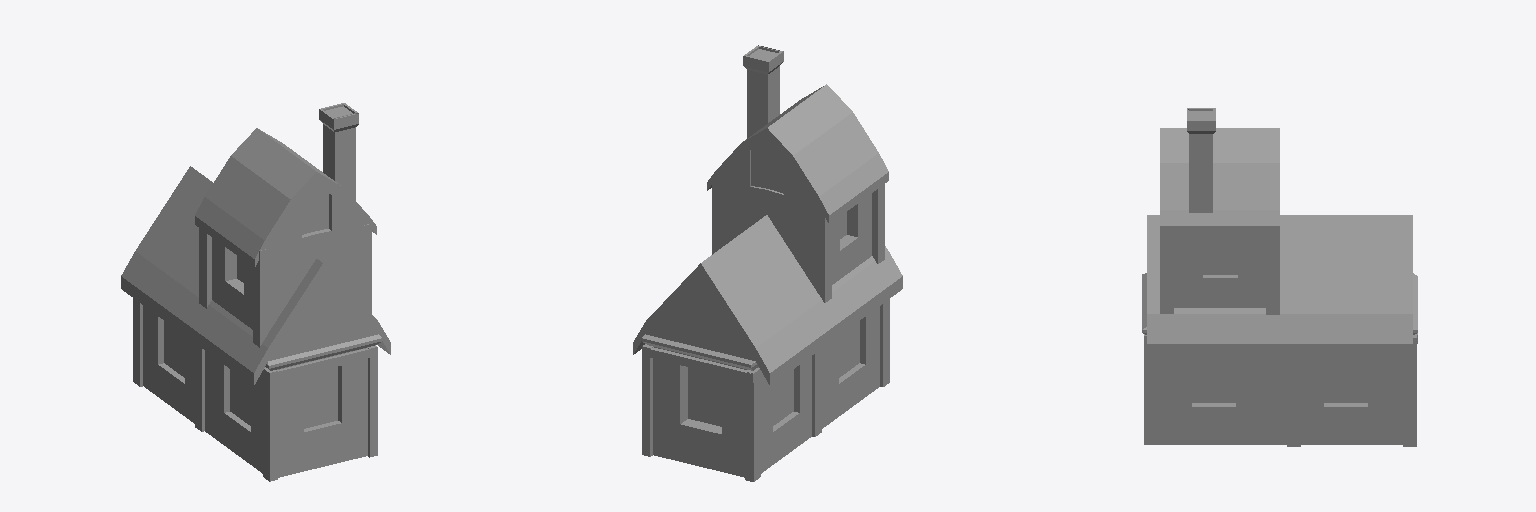
File: house.obj
The picture shows the model from 3 angles: view 1: azimuth 30°, elevation 25°; view 2: azimuth 150°, elevation 25°; view 3: azimuth 270°, elevation 25°; orthographic projection.
Parts seen in each view (by area): view 1: maison_Mesh.005; view 2: maison_Mesh.005; view 3: maison_Mesh.005.
Part boxes in pixels (left/top/right/bottom): maison_Mesh.005: left=121, top=103, right=390, bottom=481; maison_Mesh.005: left=633, top=45, right=902, bottom=481; maison_Mesh.005: left=1142, top=108, right=1417, bottom=446.
Size of the model in its own units: 0.1227 by 0.2788 by 0.2141.